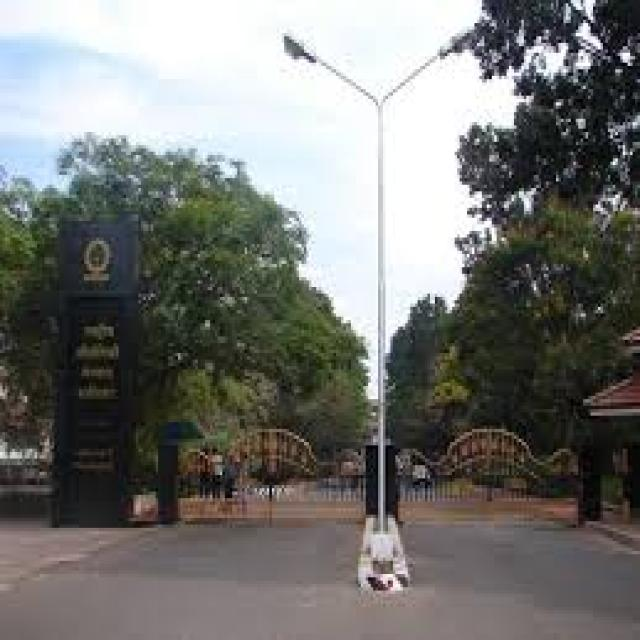gate ahead at: (176, 429, 371, 524), (400, 425, 585, 525)
